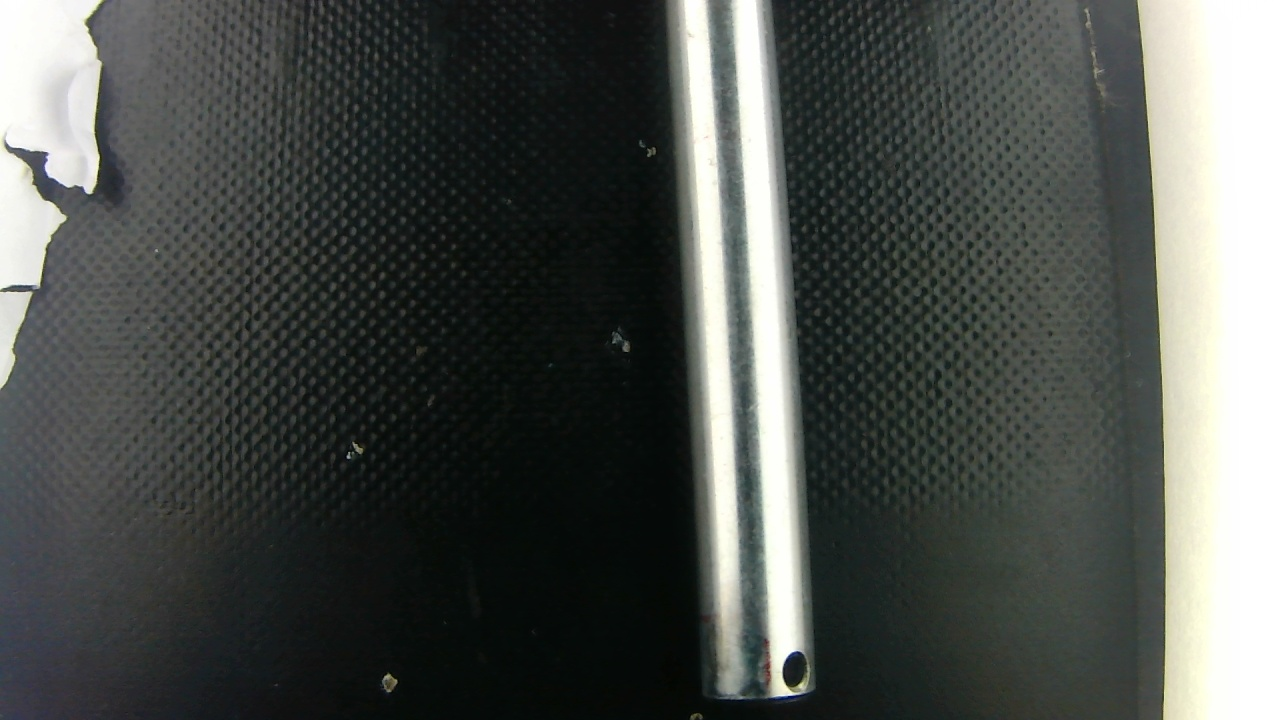black patch_pin: (697, 620, 780, 707)
